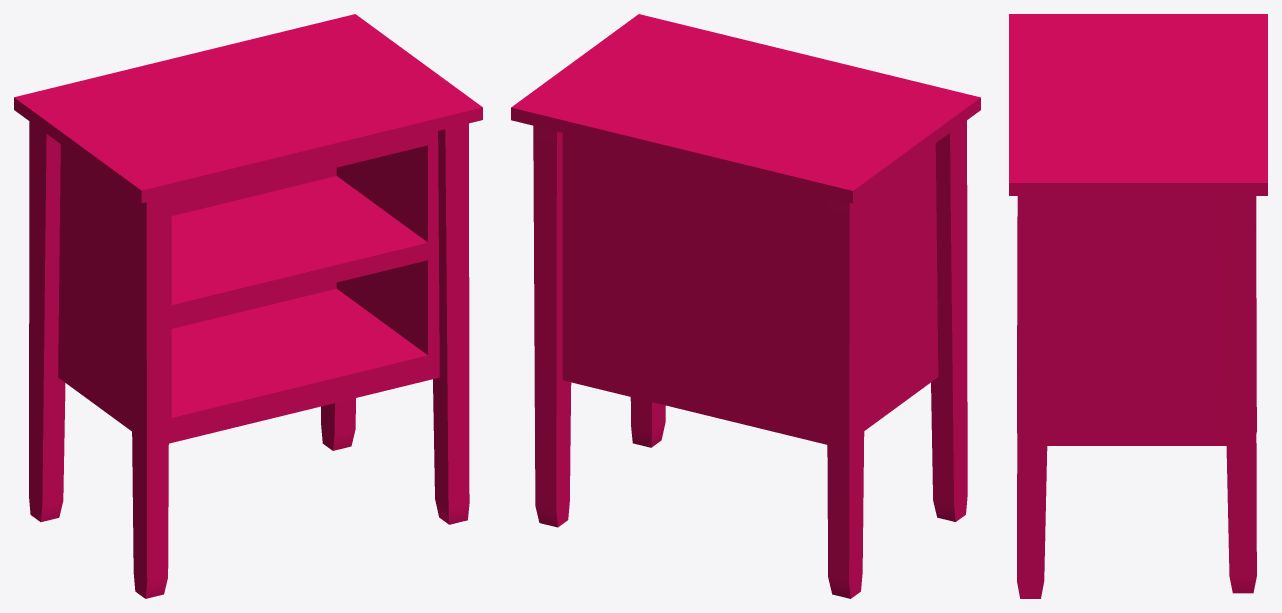
File: Cupboard_10_Lod0.fbx
3 renders of one model, left to right at view 1: azimuth 30°, elevation 25°; view 2: azimuth 150°, elevation 25°; view 3: azimuth 270°, elevation 25°, orthographic.
Visible parts, largest first — view 1: Cupboard_10_Lod0; view 2: Cupboard_10_Lod0; view 3: Cupboard_10_Lod0.
Part boxes in pixels (<box>): Cupboard_10_Lod0: <box>14,14,482,598</box>; Cupboard_10_Lod0: <box>511,14,980,598</box>; Cupboard_10_Lod0: <box>1009,14,1267,598</box>.
Bounding box in the file's own units: 76.07 × 88.29 × 49.24.
